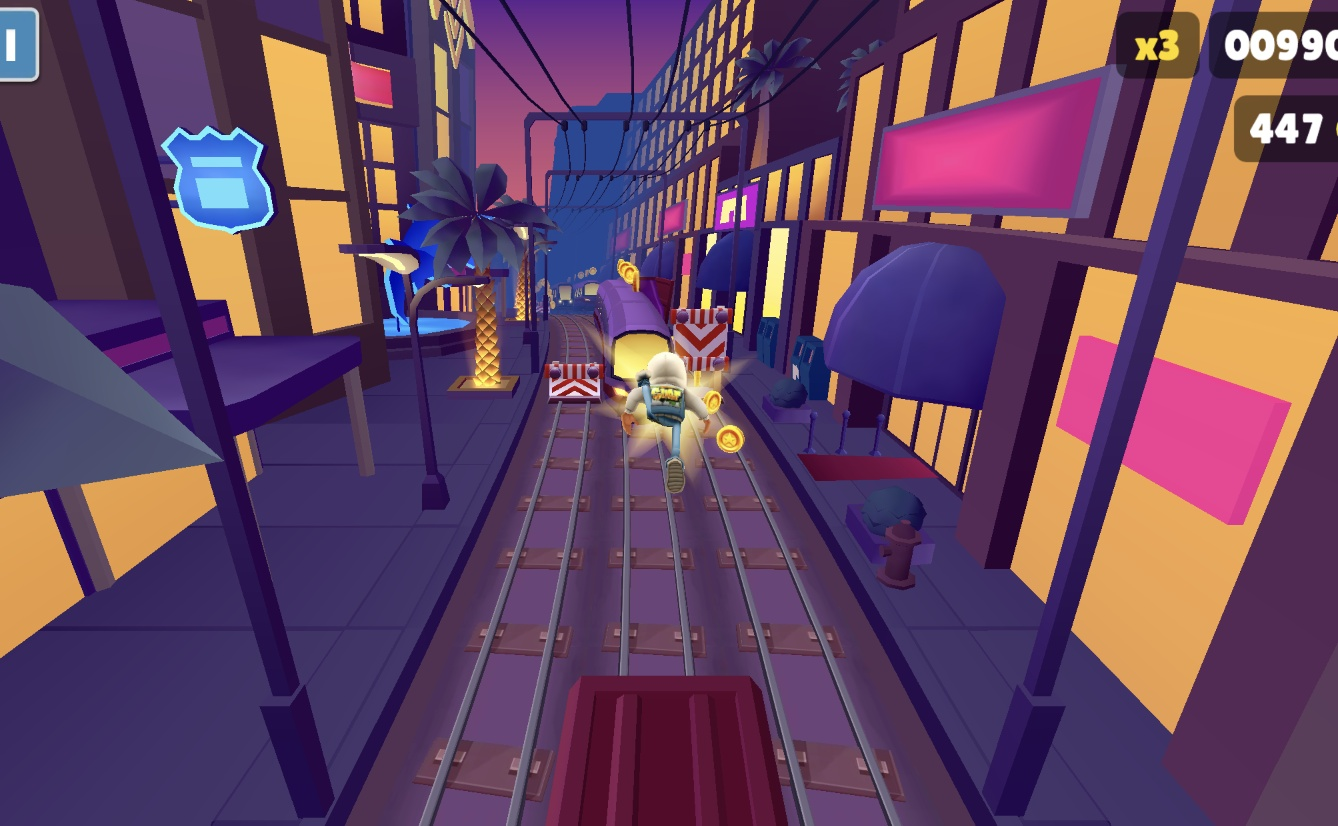ground_barrier: (547, 359, 599, 402)
overhead_barrier: (686, 302, 739, 379)
train: (557, 674, 771, 826), (567, 294, 694, 392)
